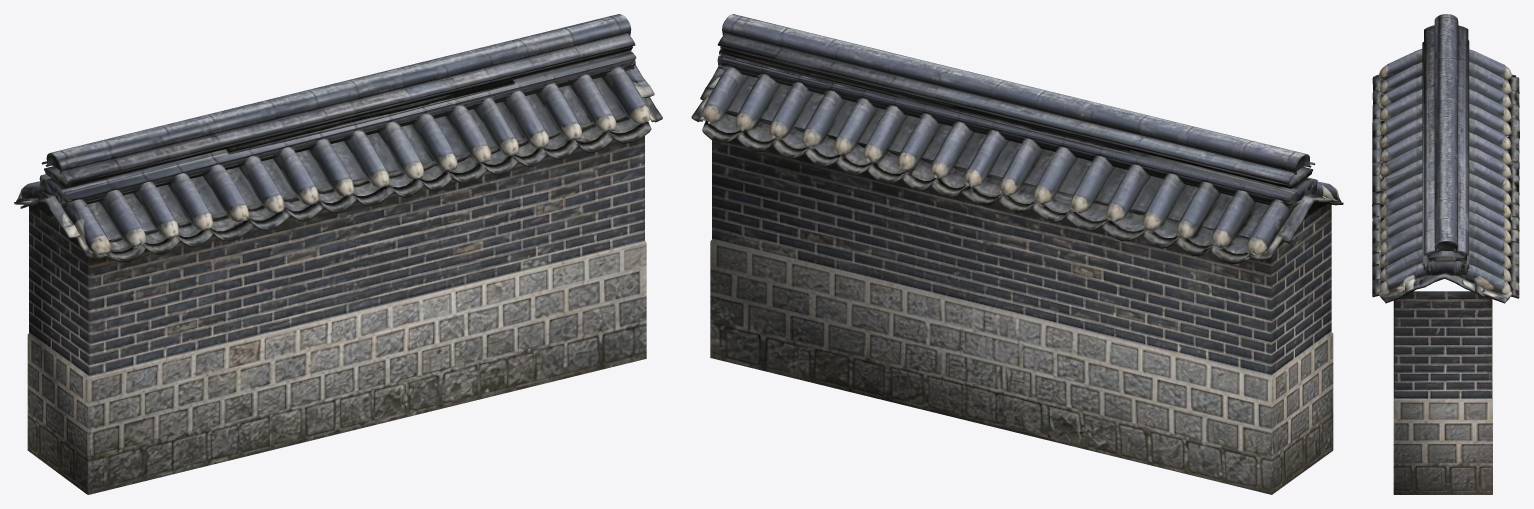
Rendered from wall-5828e0197c.glb.
3 renders of one model, left to right at view 1: azimuth 30°, elevation 25°; view 2: azimuth 150°, elevation 25°; view 3: azimuth 270°, elevation 25°, orthographic. The views are drawn at different scales.
Visible parts, largest first — view 1: tripo_node_dbd1d23f-ee8e-4d9a-984a-b992ebbb23b6; view 2: tripo_node_dbd1d23f-ee8e-4d9a-984a-b992ebbb23b6; view 3: tripo_node_dbd1d23f-ee8e-4d9a-984a-b992ebbb23b6.
Part boxes in pixels (<box>): tripo_node_dbd1d23f-ee8e-4d9a-984a-b992ebbb23b6: <box>14,14,662,494</box>; tripo_node_dbd1d23f-ee8e-4d9a-984a-b992ebbb23b6: <box>691,14,1343,494</box>; tripo_node_dbd1d23f-ee8e-4d9a-984a-b992ebbb23b6: <box>1372,14,1519,494</box>.
Bounding box in the file's own units: 0.9995 × 0.5172 × 0.2681.
1 material, 1 textured.
